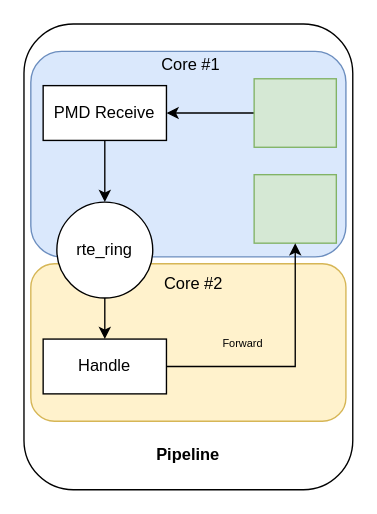
This 377x514 diagram has some shape labels left out. The shapes that lost their labels are listed below. From the top down, each one's box as (x1, y1, x2, y2) in pixels, then its label:
(253, 77, 336, 147): Rx
(253, 173, 336, 243): Tx
